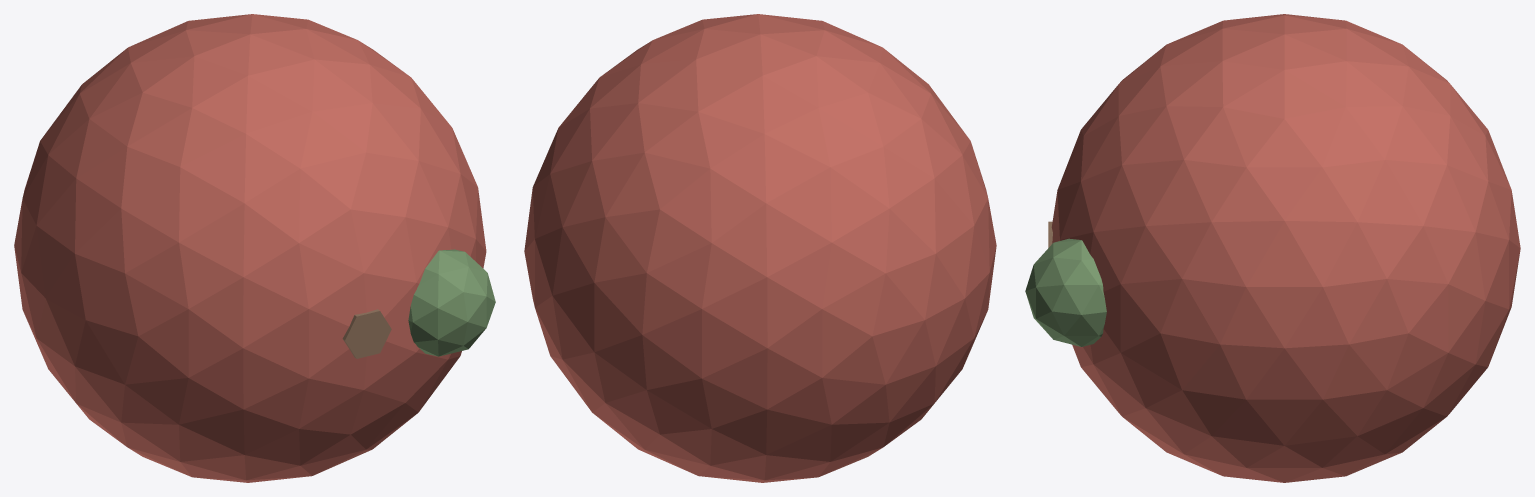
The model's file is apple.glb.
3 views of the same model, side by side, from view 1: azimuth 30°, elevation 25°; view 2: azimuth 150°, elevation 25°; view 3: azimuth 270°, elevation 25° (orthographic).
Parts seen in each view (by area): view 1: 00_maçã, 02_leaf, 01_stem; view 2: 00_maçã; view 3: 00_maçã, 02_leaf.
Part boxes in pixels (x1,y1,x2,y2): 00_maçã: (14, 14, 486, 482); 02_leaf: (408, 249, 495, 356); 01_stem: (342, 309, 391, 358); 00_maçã: (524, 14, 996, 482); 00_maçã: (1051, 14, 1520, 482); 02_leaf: (1025, 238, 1106, 346).
Size of the model in its own units: 0.21 by 0.21 by 0.2203.
